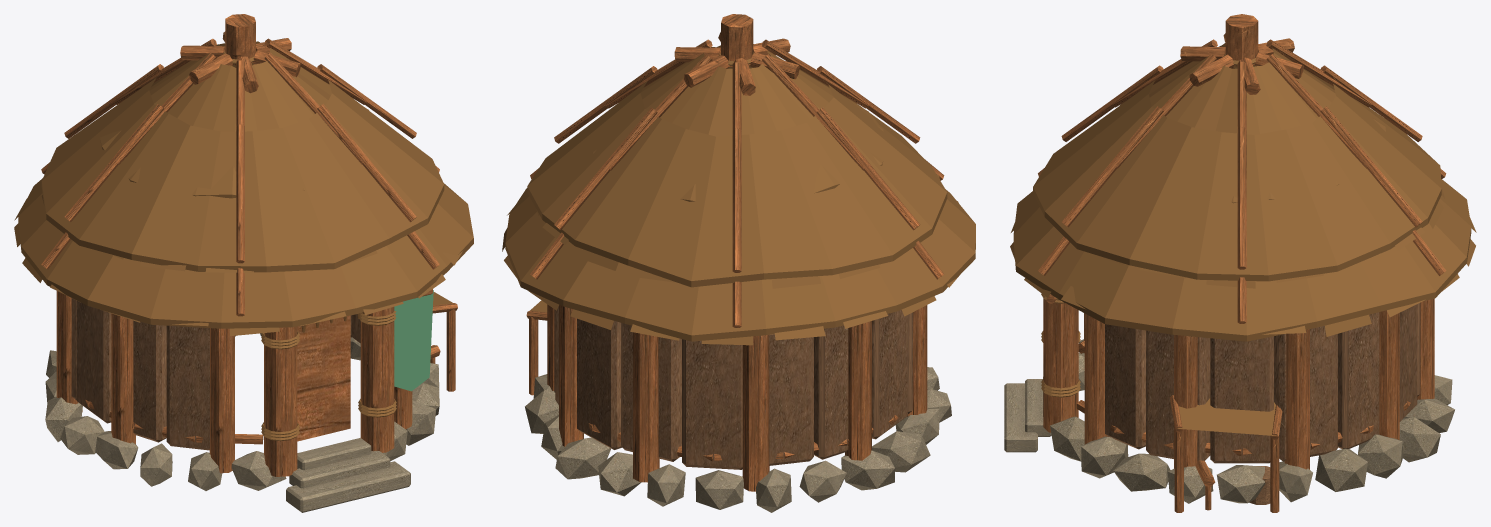
File: edificio-center-e0-BjTDbyii.glb
3 renders of one model, left to right at view 1: azimuth 30°, elevation 25°; view 2: azimuth 150°, elevation 25°; view 3: azimuth 270°, elevation 25°, orthographic. The views are drawn at different scales.
Parts seen in each view (by area): view 1: centro_paja_piel, centro_madera, centro_tierra_piedra, centro_team_color; view 2: centro_paja_piel, centro_tierra_piedra, centro_madera; view 3: centro_paja_piel, centro_tierra_piedra, centro_madera.
Part boxes in pixels (bbox=[...]): centro_paja_piel: bbox=[14, 41, 473, 441]; centro_madera: bbox=[41, 14, 457, 476]; centro_tierra_piedra: bbox=[45, 298, 439, 512]; centro_team_color: bbox=[394, 290, 433, 391]; centro_paja_piel: bbox=[502, 44, 975, 345]; centro_tierra_piedra: bbox=[525, 306, 951, 512]; centro_madera: bbox=[526, 14, 944, 491]; centro_paja_piel: bbox=[1010, 43, 1476, 435]; centro_tierra_piedra: bbox=[1004, 303, 1454, 504]; centro_madera: bbox=[1038, 14, 1446, 512].
Size of the model in its own units: 86.55 by 82.59 by 86.61.
4 materials, 3 textured.
